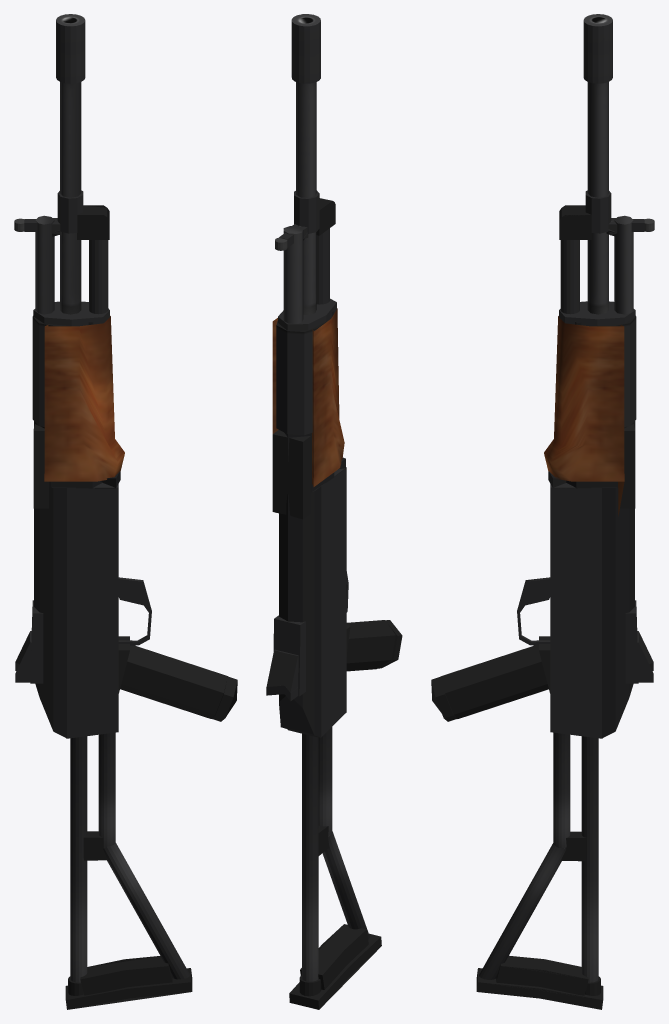
The model's file is Galil_NoMagazine.fbx.
The picture shows the model from 3 angles, left to right: view 1: azimuth 90°, elevation 25°; view 2: azimuth 150°, elevation 25°; view 3: azimuth 270°, elevation 25°; orthographic projection.
Visible parts, largest first — view 1: node_01ad04d0_9ae3_4723_a41a_f70a8fdbbab7_mesh0; view 2: node_01ad04d0_9ae3_4723_a41a_f70a8fdbbab7_mesh0; view 3: node_01ad04d0_9ae3_4723_a41a_f70a8fdbbab7_mesh0.
Boxes of the visible parts, box(x1,y1,x2,y2) form: node_01ad04d0_9ae3_4723_a41a_f70a8fdbbab7_mesh0: box(14, 14, 237, 1009); node_01ad04d0_9ae3_4723_a41a_f70a8fdbbab7_mesh0: box(266, 14, 402, 1009); node_01ad04d0_9ae3_4723_a41a_f70a8fdbbab7_mesh0: box(431, 14, 654, 1009).
Size of the model in its own units: 0.0245 by 0.5593 by 0.1153.
